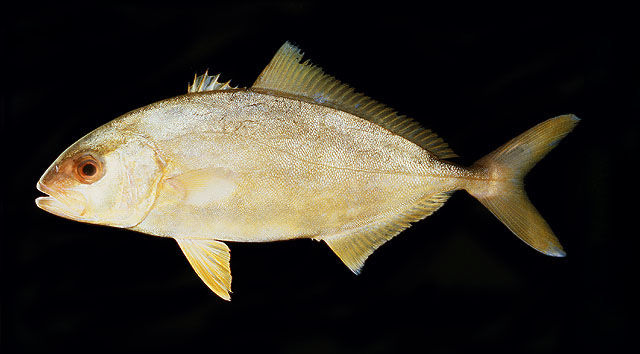fish: (35, 41, 582, 302)
